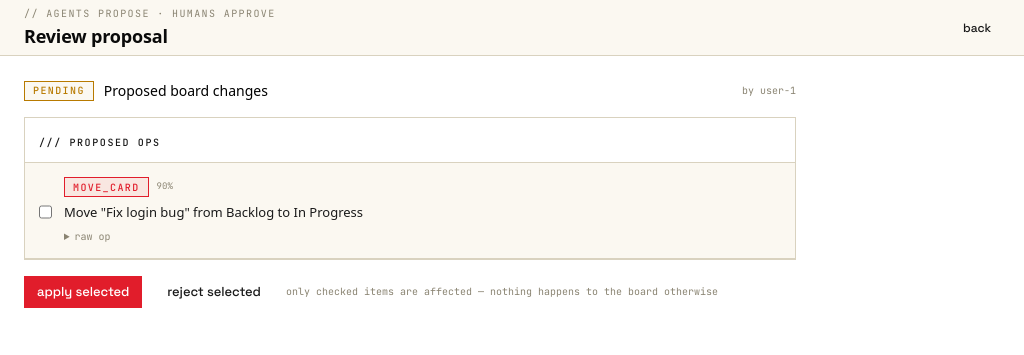
it: ChangeSetReview › reject: renders the server error message on a non-2xx response and re-enables the button
The image size is (1024, 355).
Click the checkbox named "select:" at (46, 212), box [39, 180, 52, 244]
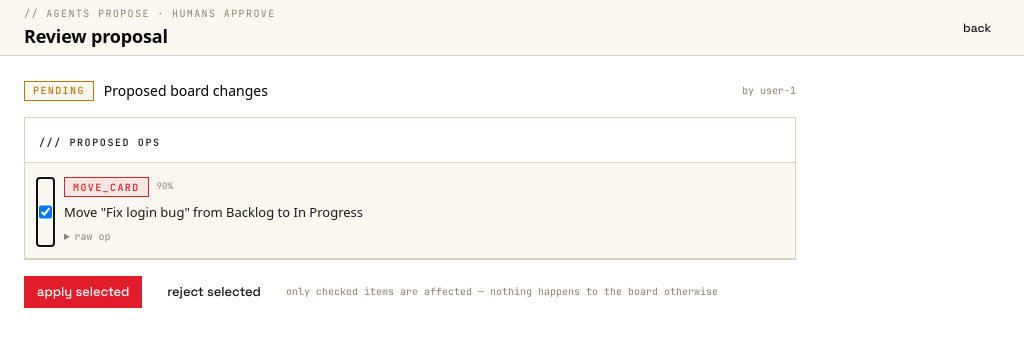
Click the button "reject selected" at (214, 292), box [154, 276, 274, 308]
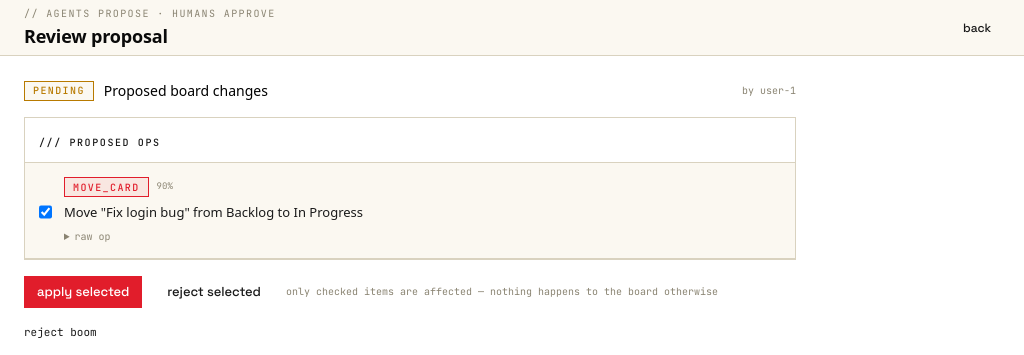
Expected: the text "reject boom" is shown, [24, 324, 97, 338]
